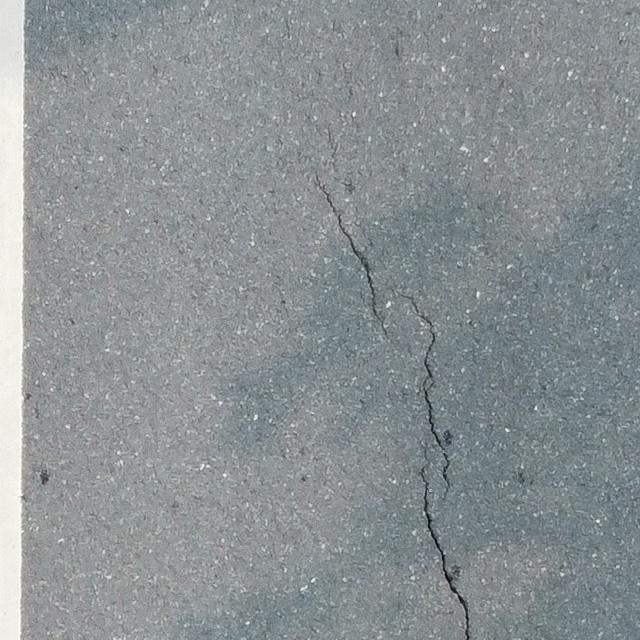LongitudinalCrack: (315, 174, 388, 337), (397, 291, 450, 499), (417, 441, 471, 640)
